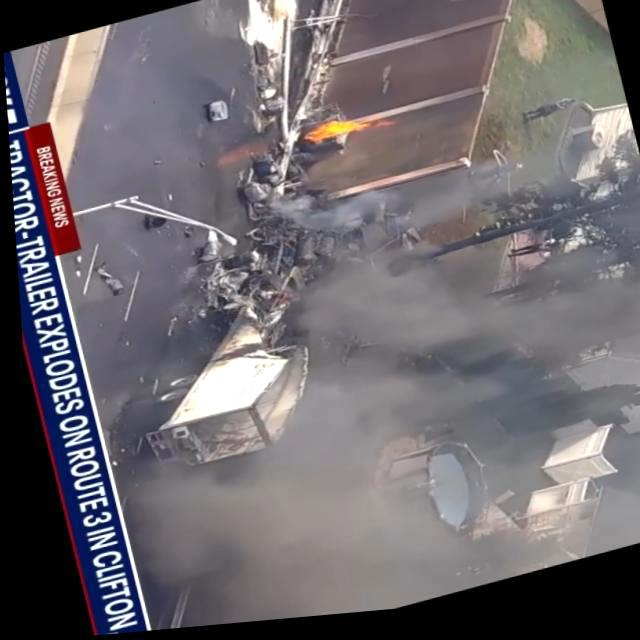fire: (294, 101, 396, 162)
